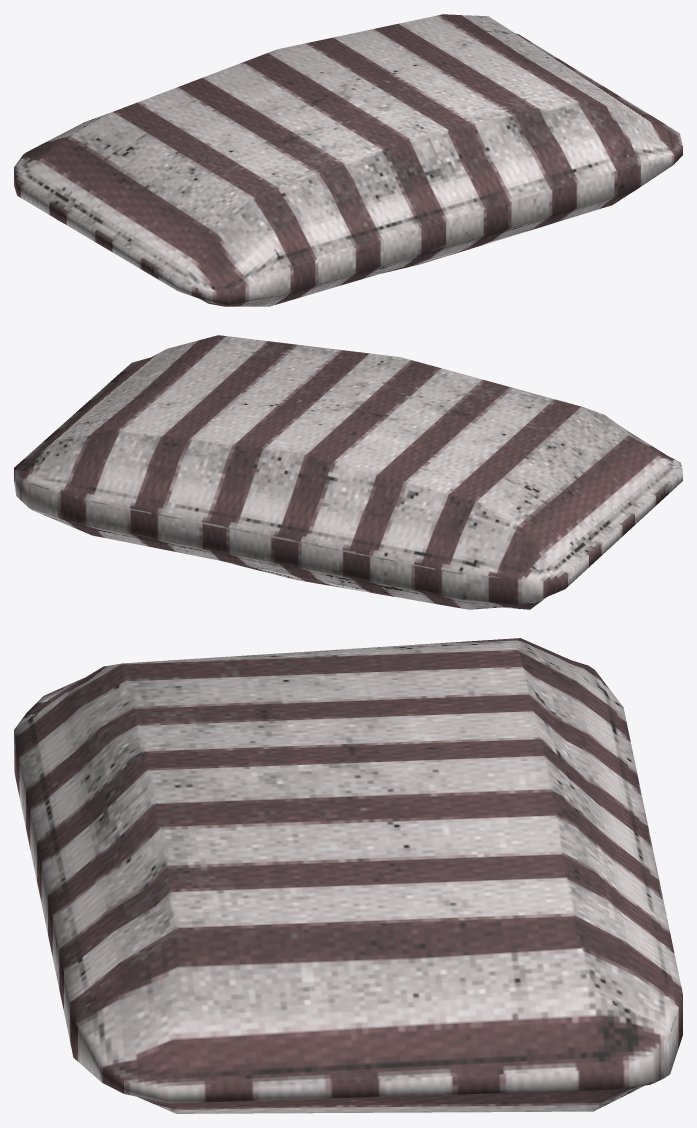
File: Pillow001.glb
3 views of the same model, one above another, from view 1: azimuth 30°, elevation 25°; view 2: azimuth 150°, elevation 25°; view 3: azimuth 270°, elevation 25° (orthographic). The views are drawn at different scales.
Parts seen in each view (by area): view 1: Pillow001; view 2: Pillow001; view 3: Pillow001.
Part boxes in pixels (<box>): Pillow001: <box>14,14,682,306</box>; Pillow001: <box>14,335,682,609</box>; Pillow001: <box>14,638,682,1113</box>.
Size of the model in its own units: 0.7887 by 0.1766 by 0.5227.
Materials: 1 (1 with a texture image).
